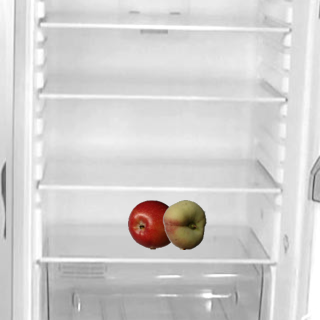Apple Braeburn: (127, 199, 177, 249)
Peach Flat: (159, 199, 209, 249)
